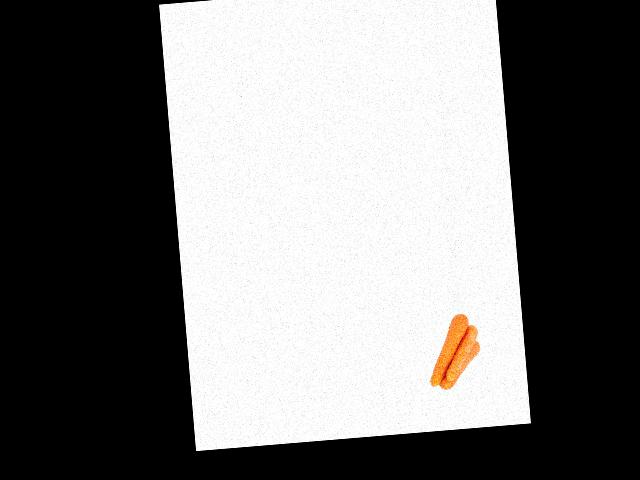carrot: (426, 312, 473, 384)
